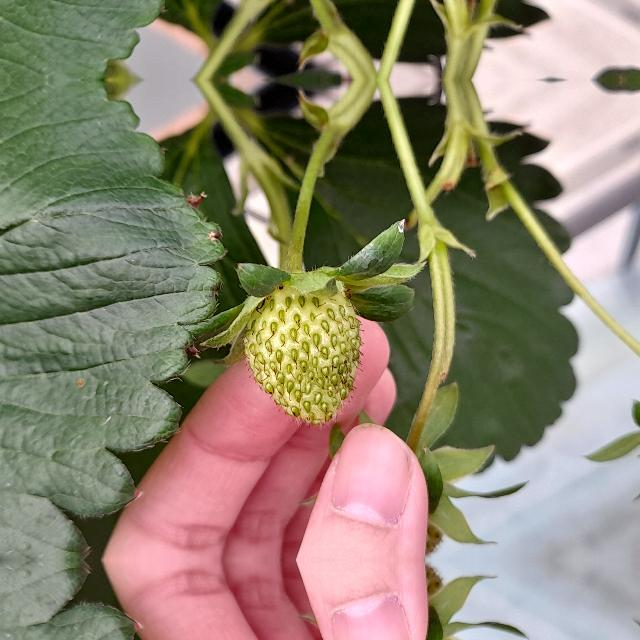Health_25: (242, 282, 362, 424)
